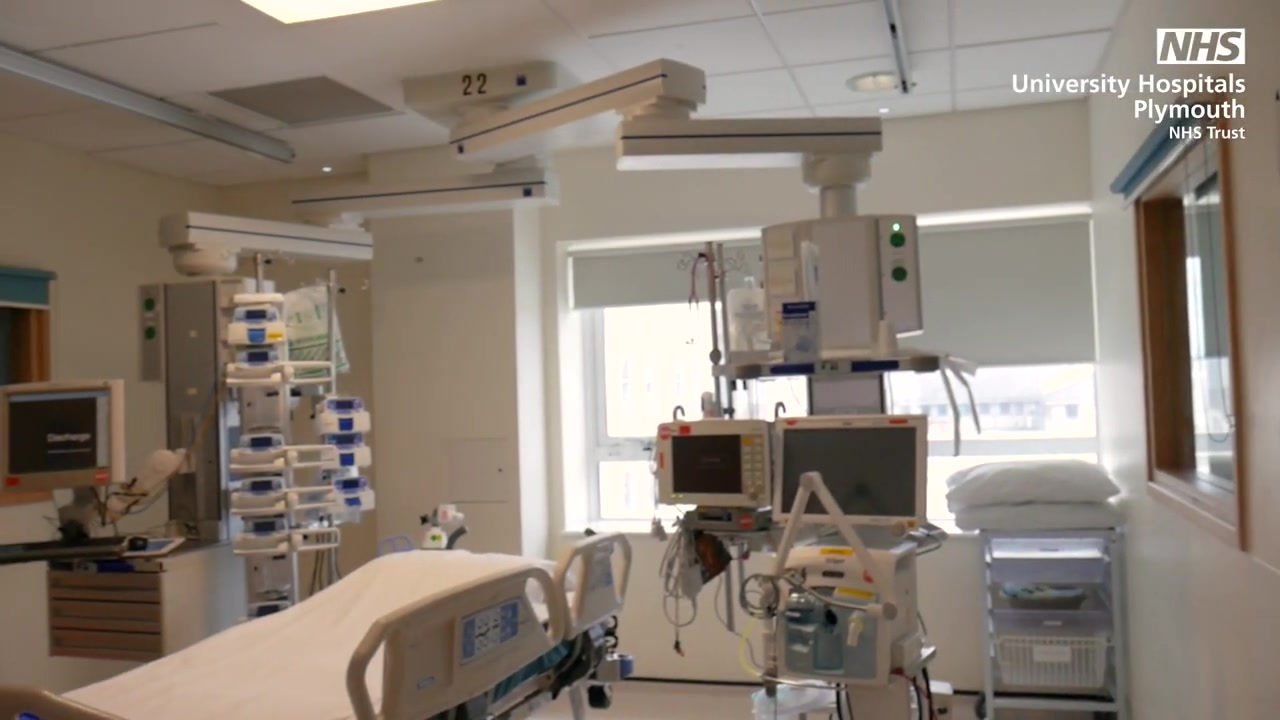bedrail: (346, 562, 565, 720), (553, 531, 633, 640)
bedside_monitor: (775, 417, 930, 520), (657, 419, 772, 507)
computer: (1, 379, 124, 494)
drawer: (46, 543, 244, 661)
foot_board: (1, 681, 128, 720)
hospital_bed: (1, 531, 636, 720)
iv_pole: (676, 240, 748, 420), (300, 268, 369, 394), (220, 248, 296, 293)
keyboard: (1, 536, 128, 564)
mouse: (129, 535, 148, 551)
syringe_pump: (230, 306, 289, 346), (228, 351, 287, 389), (317, 475, 376, 511), (234, 517, 288, 554), (316, 398, 370, 435), (231, 434, 286, 470), (232, 478, 286, 514), (320, 435, 372, 467)
utility_cart: (973, 528, 1128, 720)
ventilator: (750, 539, 925, 720)
